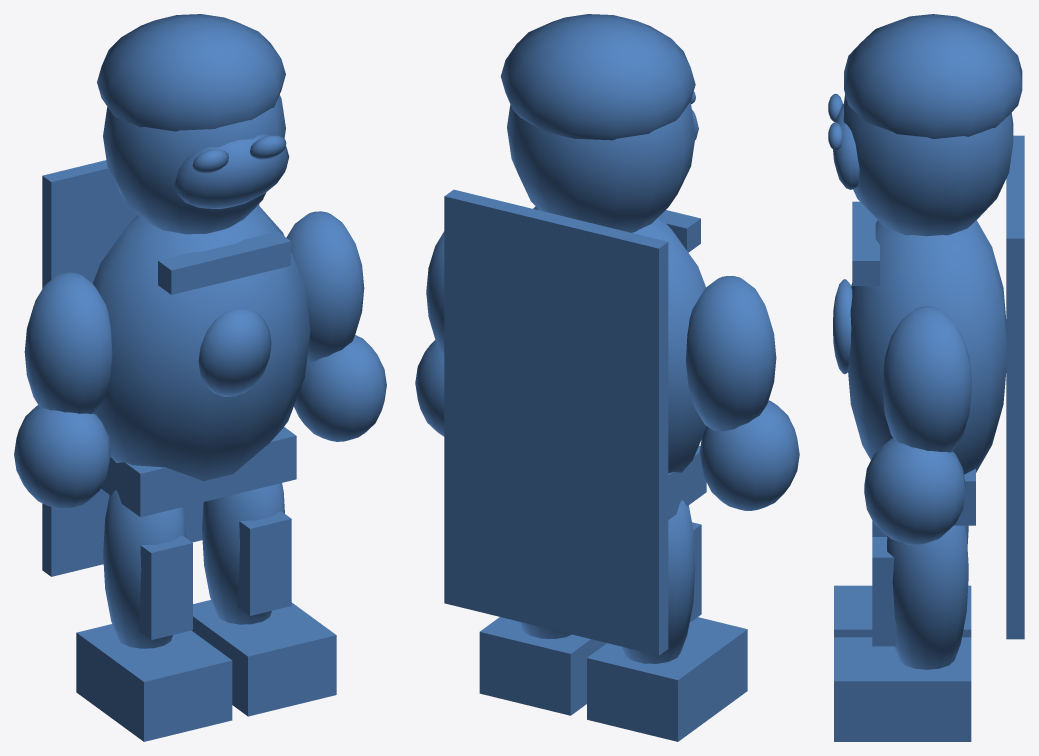
Rendered from strange.glb.
3 renders of one model, left to right at view 1: azimuth 30°, elevation 25°; view 2: azimuth 150°, elevation 25°; view 3: azimuth 270°, elevation 25°, orthographic. The views are drawn at different scales.
Visible parts, largest first — view 1: strange-hero; view 2: strange-hero; view 3: strange-hero.
Part boxes in pixels (x1,y1,x2,y2): strange-hero: [14, 14, 386, 741]; strange-hero: [415, 14, 799, 741]; strange-hero: [828, 14, 1024, 741].
Bounding box in the file's own units: 1.38 × 2.41 × 0.6444.
